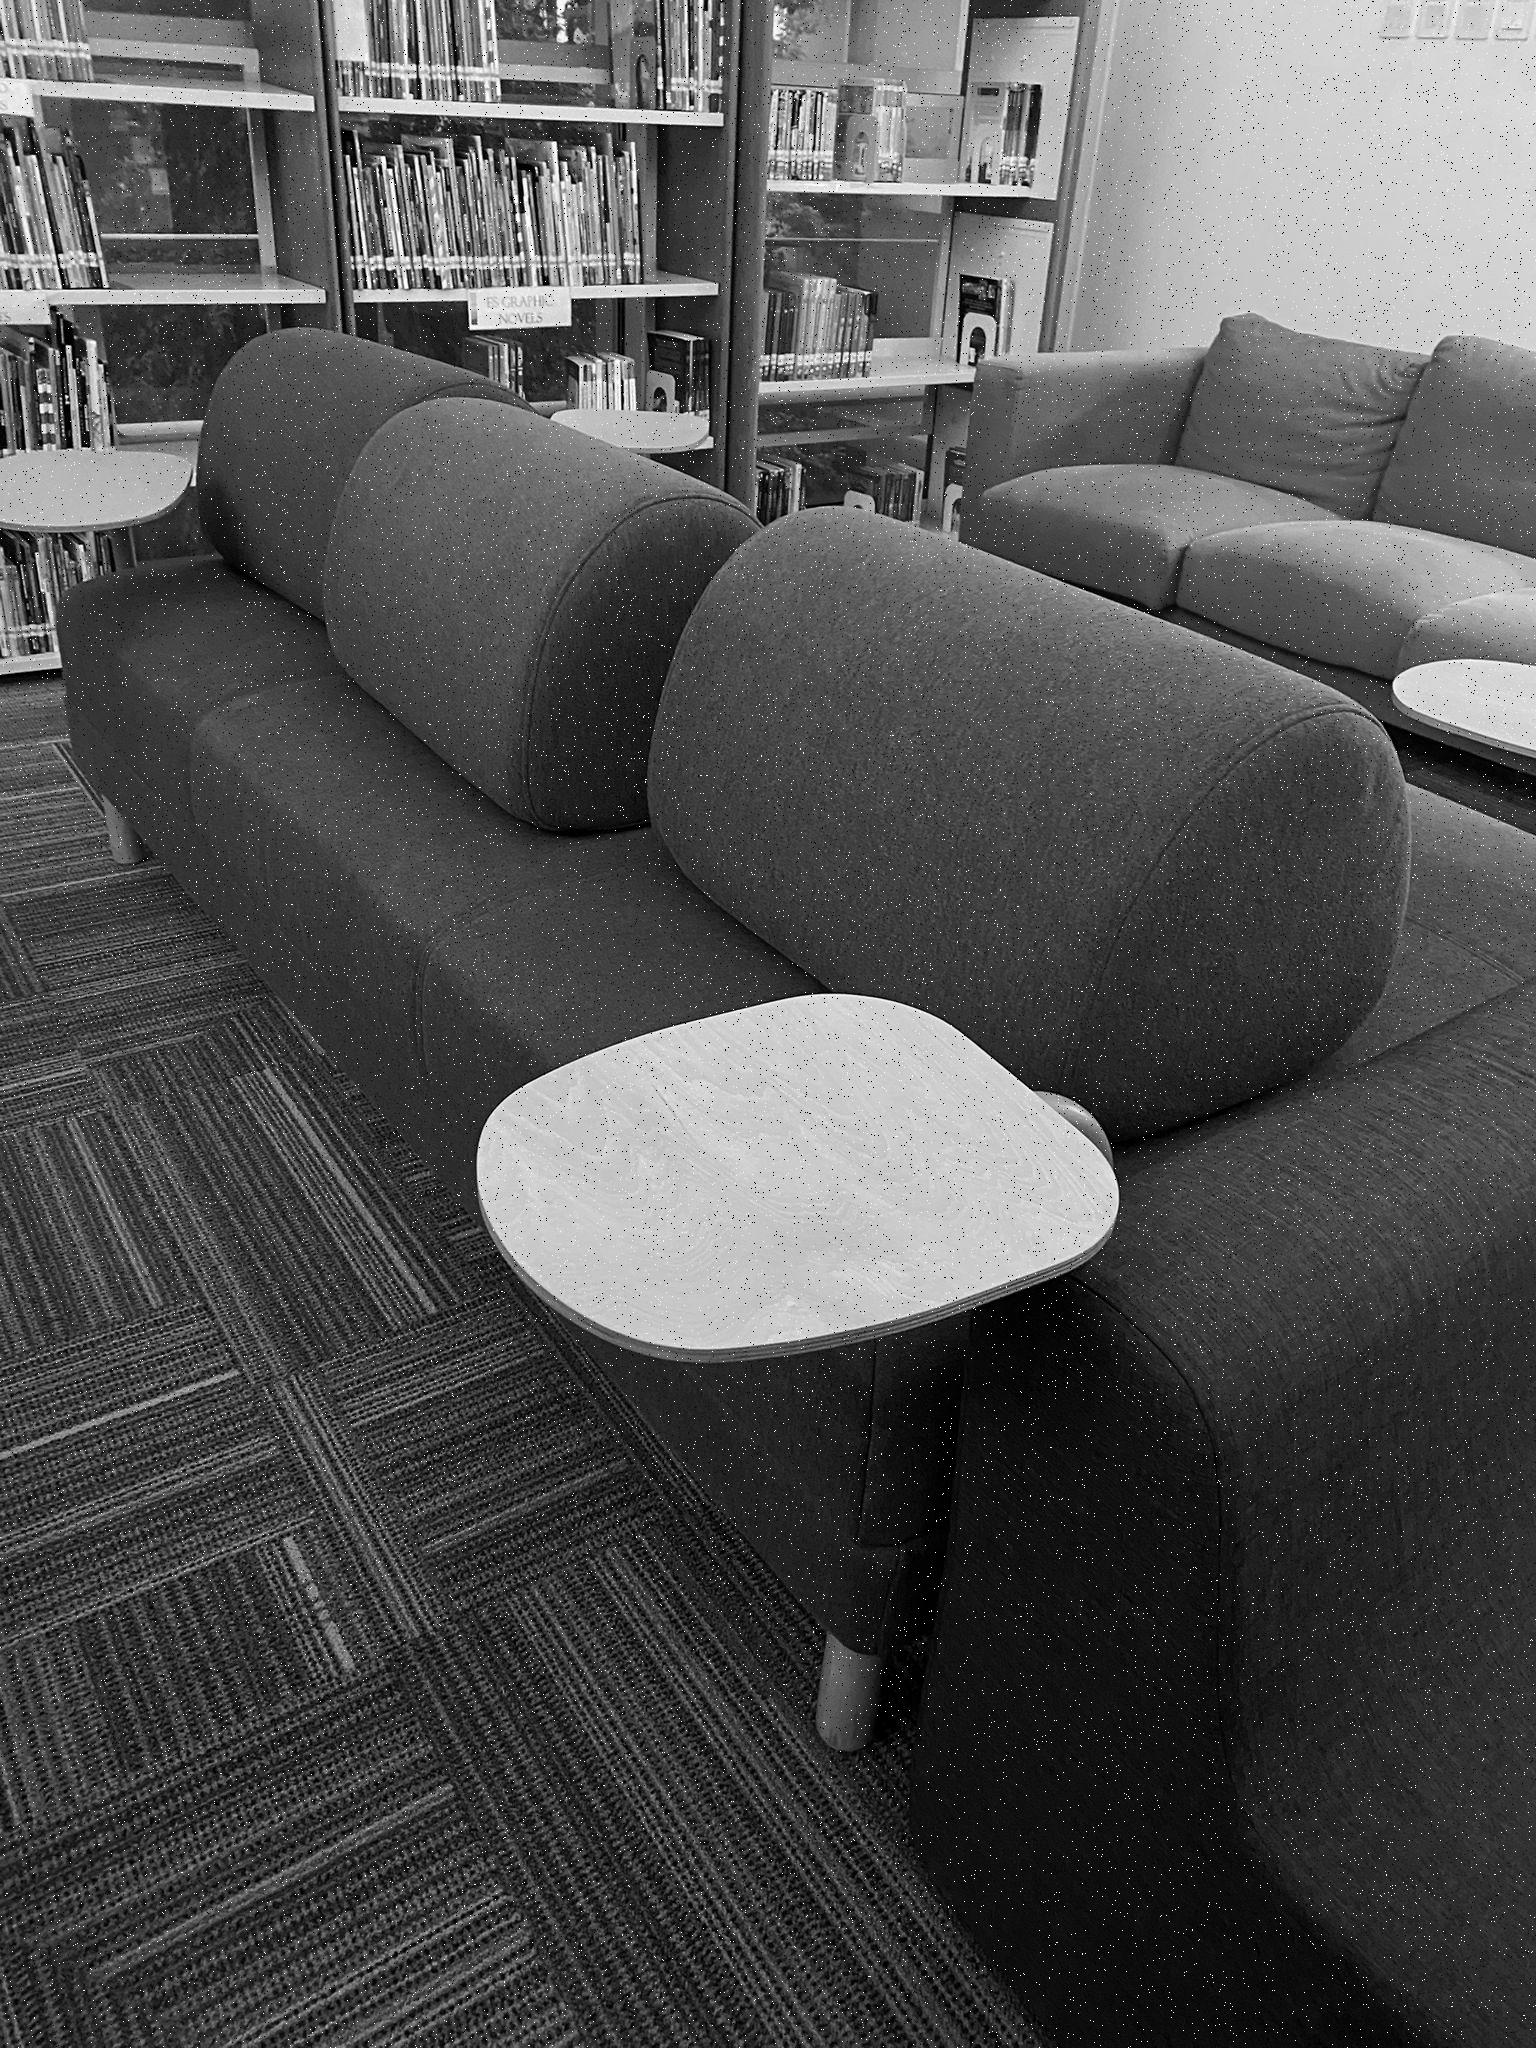Couch: (60, 316, 1534, 2046)
Table: (478, 993, 1118, 1363), (1392, 660, 1534, 761)
